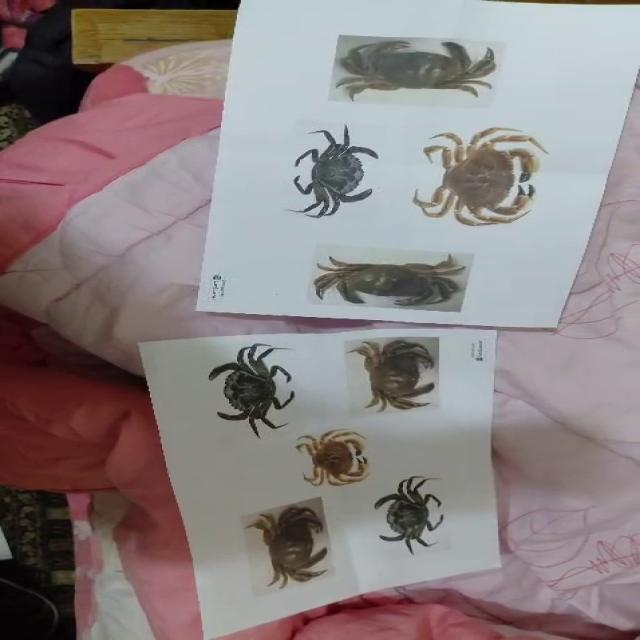egc: (289, 125, 378, 217), (209, 343, 295, 437), (374, 477, 443, 554)
